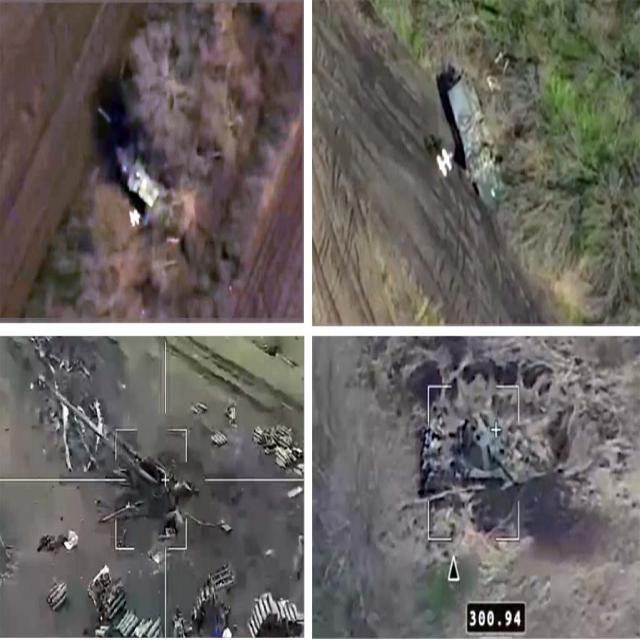cars: (446, 70, 511, 208), (97, 454, 200, 525)
destroyed: (114, 131, 166, 225)
tank: (419, 412, 560, 500)
